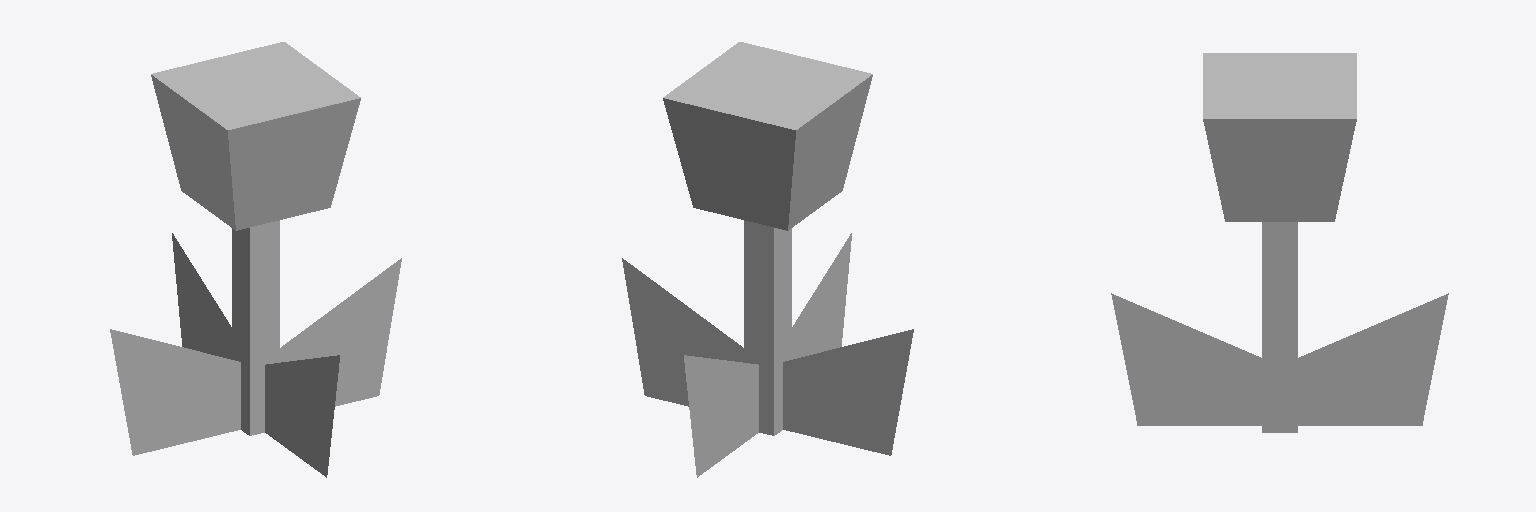
File: Flower_Tall_Yellow_01.obj
3 renders of one model, left to right at view 1: azimuth 30°, elevation 25°; view 2: azimuth 150°, elevation 25°; view 3: azimuth 270°, elevation 25°, orthographic.
Parts seen in each view (by area): view 1: Mesh1_Flower_Tall_Yellow_Model, Mesh5_Flower_Tall_Yellow_Model, Mesh2_Flower_Tall_Yellow_Model, Mesh4_Flower_Tall_Yellow_Model, Mesh3_Flower_Tall_Yellow_Model; view 2: Mesh1_Flower_Tall_Yellow_Model, Mesh5_Flower_Tall_Yellow_Model, Mesh2_Flower_Tall_Yellow_Model, Mesh3_Flower_Tall_Yellow_Model, Mesh4_Flower_Tall_Yellow_Model; view 3: Mesh1_Flower_Tall_Yellow_Model, Mesh3_Flower_Tall_Yellow_Model, Mesh4_Flower_Tall_Yellow_Model.
Boxes of the visible parts, <box> form: Mesh1_Flower_Tall_Yellow_Model: <box>151,42,360,435</box>; Mesh5_Flower_Tall_Yellow_Model: <box>110,329,240,455</box>; Mesh2_Flower_Tall_Yellow_Model: <box>280,258,401,406</box>; Mesh4_Flower_Tall_Yellow_Model: <box>265,355,339,477</box>; Mesh3_Flower_Tall_Yellow_Model: <box>172,233,231,359</box>; Mesh1_Flower_Tall_Yellow_Model: <box>663,42,872,435</box>; Mesh5_Flower_Tall_Yellow_Model: <box>783,329,913,455</box>; Mesh2_Flower_Tall_Yellow_Model: <box>622,258,743,406</box>; Mesh3_Flower_Tall_Yellow_Model: <box>684,355,758,477</box>; Mesh4_Flower_Tall_Yellow_Model: <box>792,233,851,359</box>; Mesh1_Flower_Tall_Yellow_Model: <box>1203,53,1356,432</box>; Mesh3_Flower_Tall_Yellow_Model: <box>1298,293,1448,425</box>; Mesh4_Flower_Tall_Yellow_Model: <box>1111,293,1261,425</box>.
Size of the model in its own units: 0.4859 by 0.54 by 0.4859.